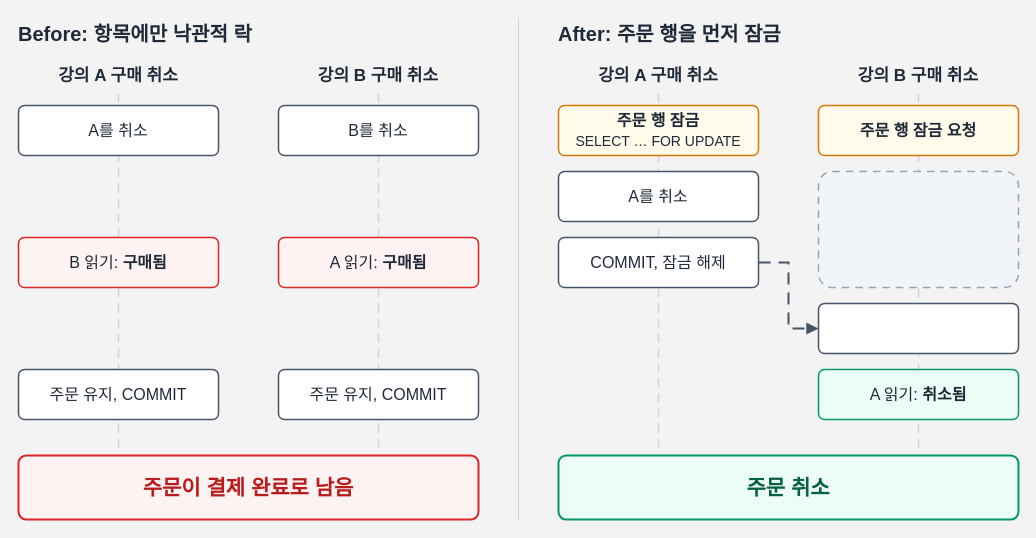
Some shapes in this 1036 by 538 pixel diagram are drawn without their labels. Here are the shapes that lost their labels. From the top down, the centre of each, then its label:
At point (918, 229): "대기".
At point (918, 328): "잠금 획득, B를 취소".
